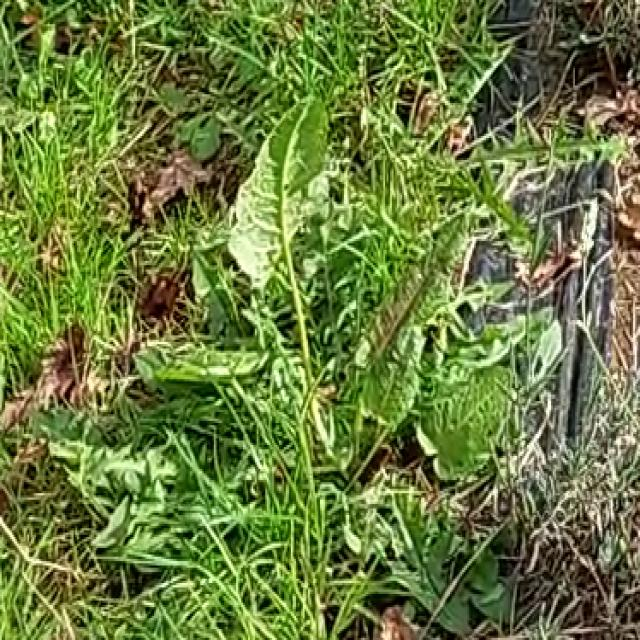organic waste: (104, 75, 500, 498)
